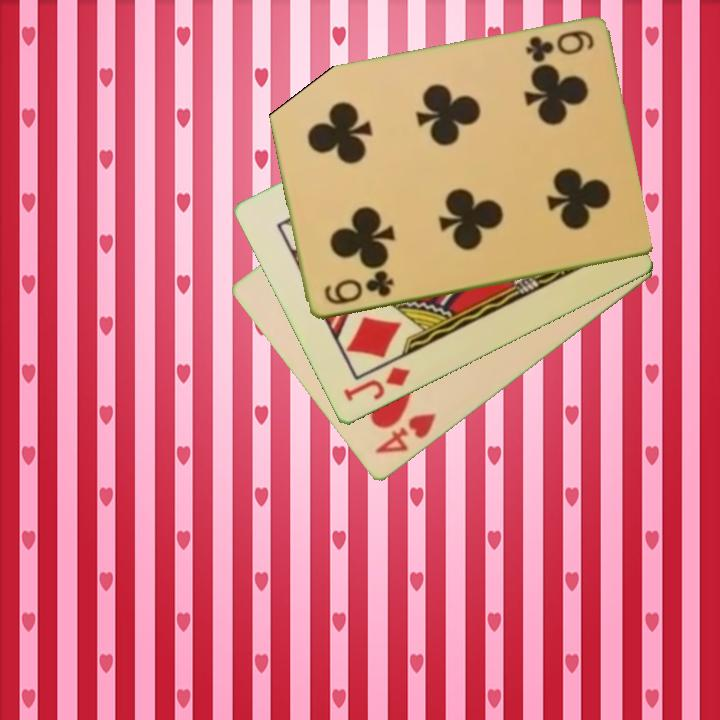4h: (371, 409, 439, 458)
6c: (320, 269, 396, 309), (522, 27, 597, 65)
Jd: (339, 363, 413, 405)
